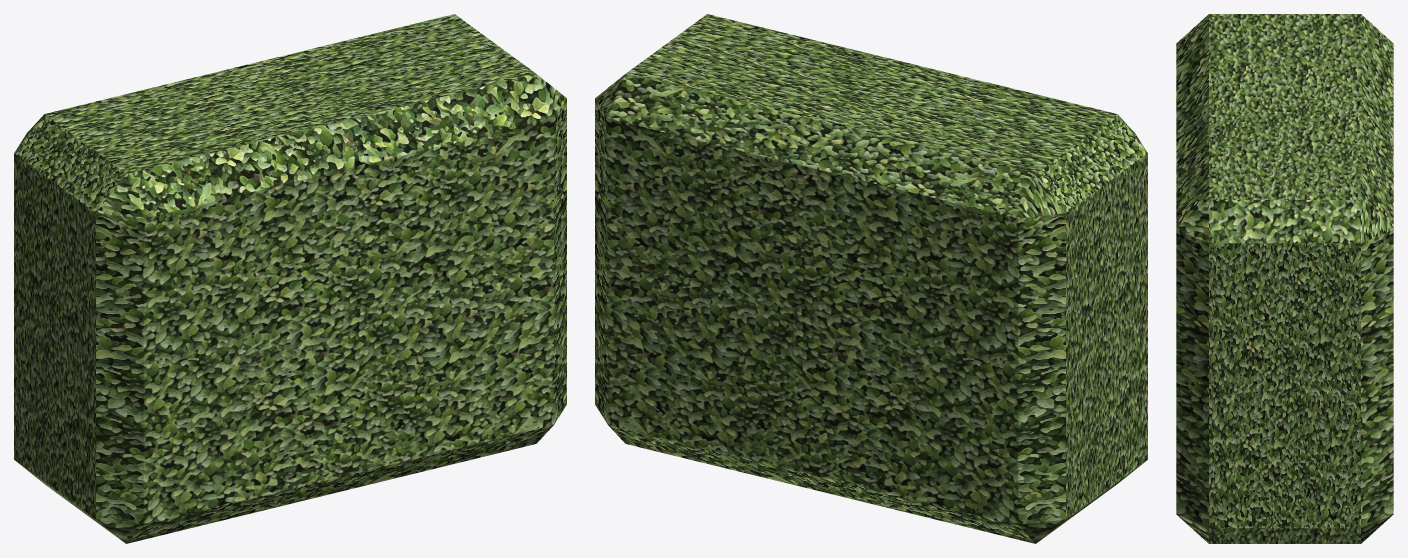
Rendered from 3dmodel_hedge_v1_sc.fbx.
3 renders of one model, left to right at view 1: azimuth 30°, elevation 25°; view 2: azimuth 150°, elevation 25°; view 3: azimuth 270°, elevation 25°, orthographic. The views are drawn at different scales.
Visible parts, largest first — view 1: hedge; view 2: hedge; view 3: hedge.
Part boxes in pixels (left/top/right/bottom): hedge: left=14, top=14, right=566, bottom=543; hedge: left=595, top=14, right=1147, bottom=543; hedge: left=1176, top=14, right=1393, bottom=543.
Bounding box in the file's own units: 2.02 × 1.51 × 0.8667.
